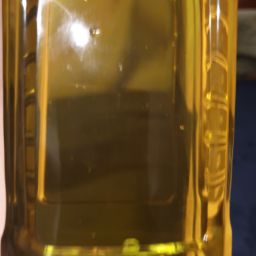Oil: (14, 9, 236, 256), (50, 54, 178, 149)
